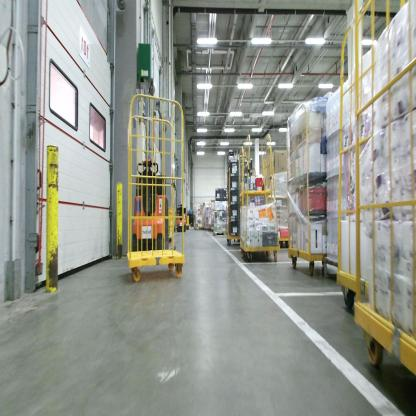pallet_truck: (127, 150, 172, 259), (173, 192, 191, 235)
